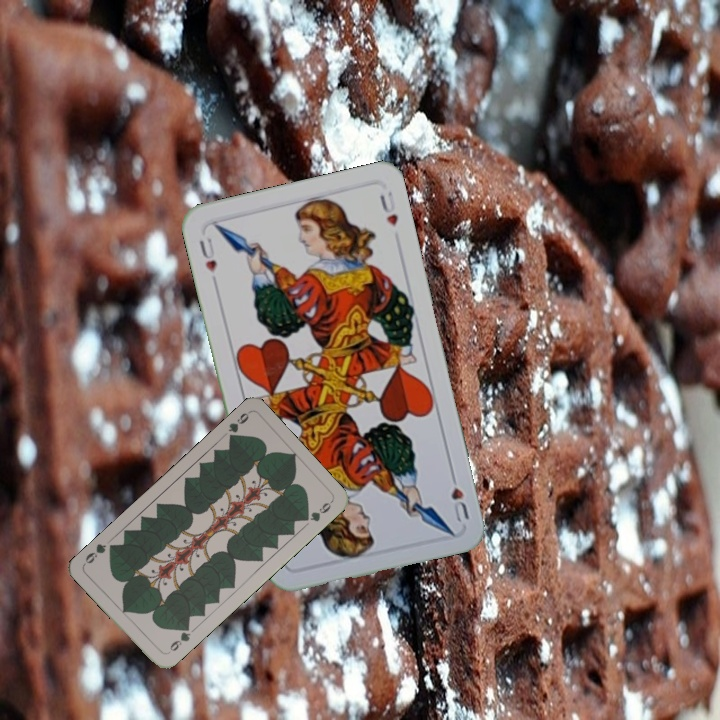G9: (163, 622, 193, 657), (224, 408, 252, 444)
HU: (446, 467, 472, 525), (195, 233, 220, 287)
